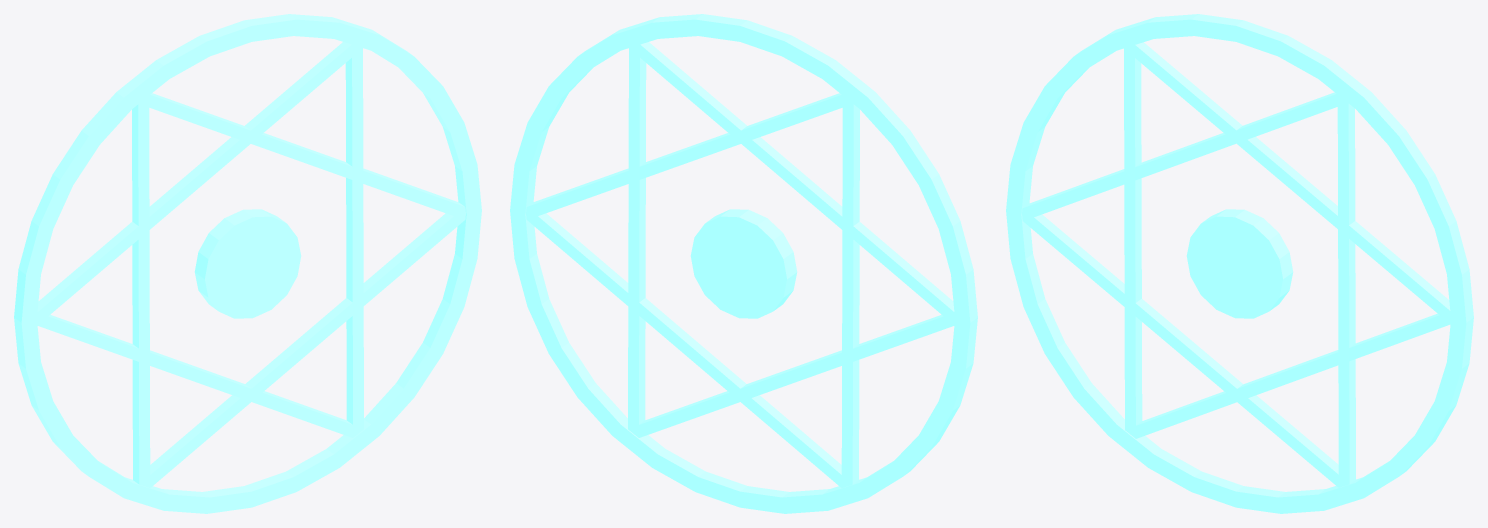
The model's file is gate_rune.fbx.
3 renders of one model, left to right at view 1: azimuth 30°, elevation 25°; view 2: azimuth 150°, elevation 25°; view 3: azimuth 330°, elevation 25°, orthographic.
Visible parts, largest first — view 1: gate_rune; view 2: gate_rune; view 3: gate_rune.
Part boxes in pixels (x1,y1,x2,y2): gate_rune: (14, 14, 481, 513); gate_rune: (510, 14, 977, 513); gate_rune: (1006, 14, 1473, 513).
Bounding box in the file's own units: 2100 × 2100 × 80.
